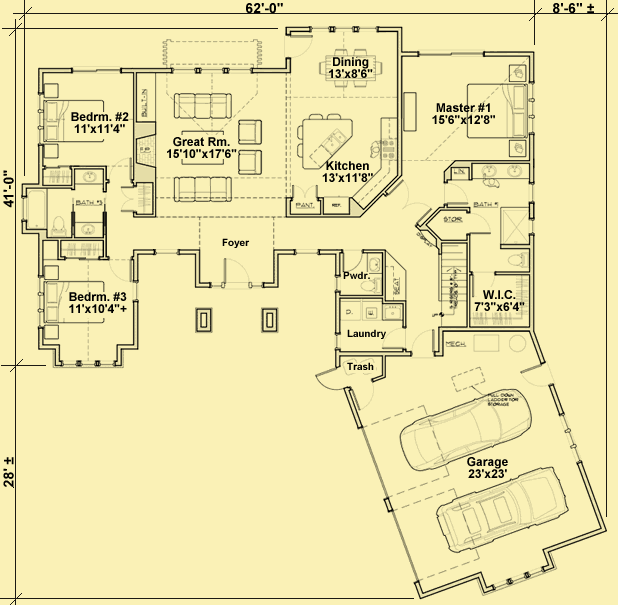bathroom has bathtub, small and large sinks: (23, 164, 107, 264)
kitchen has dining table with kitchen counter and cooking range: (286, 27, 406, 220)
laundry has washer and dryer: (337, 298, 410, 358)
livingroom has multiple large sofa and small sofa with coffee table: (133, 64, 292, 224)
master bedroom has double bed with bedside stools: (401, 50, 533, 165)
small bathroom with large sink and small sink: (333, 247, 392, 300)
there is a garage with two car parking: (342, 347, 604, 593)
this bathroom has walk in closet with shower space, dual sink and large sink: (437, 157, 534, 330)
this bedroom has a double bed: (37, 241, 139, 371)
this bedroom has a double bed with bedside stools: (36, 68, 138, 166)
